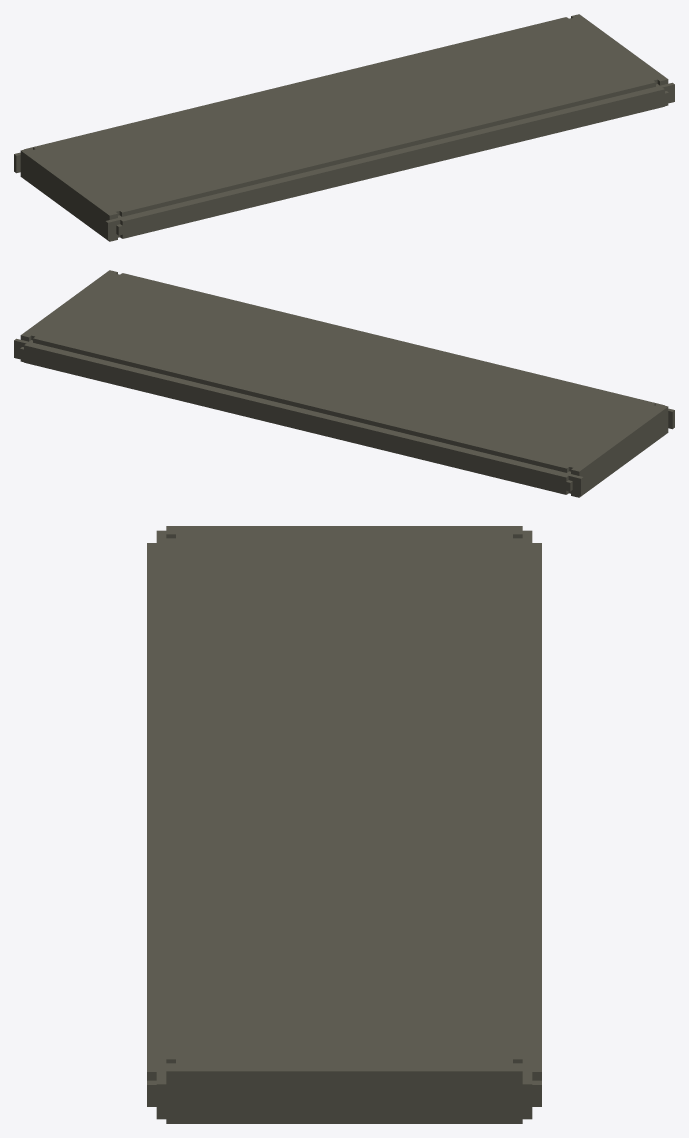
Rendered from factory4.5-11.obj.
3 renders of one model, top to bottom at view 1: azimuth 30°, elevation 25°; view 2: azimuth 150°, elevation 25°; view 3: azimuth 270°, elevation 25°, orthographic. The views are drawn at different scales.
Bounding box in the file's own units: 13.6 × 0.6 × 4.1.
Materials: 1 (1 with a texture image).
